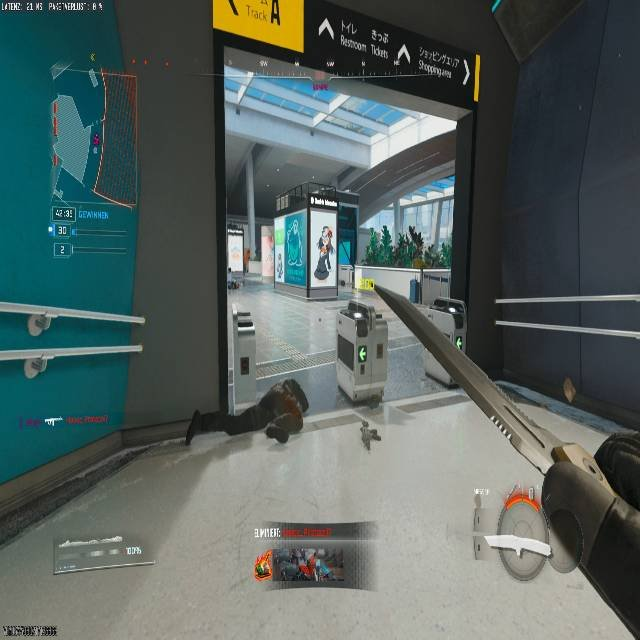head: (322, 225, 331, 235)
player: (399, 223, 428, 269), (316, 226, 334, 276)
